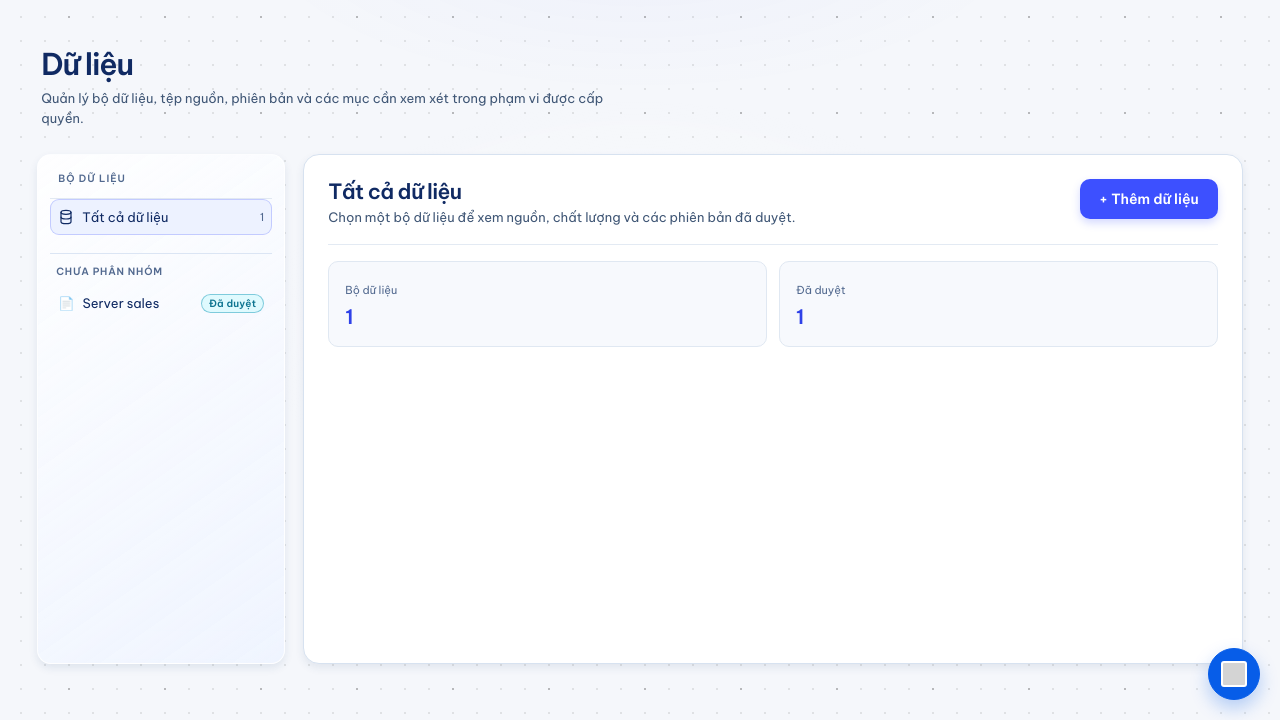
[WEB-020][WEB-021][WEB-024] data route loading states › does not expose a dead local cleaning-agent button for server datasets
Click the button "📄 Server sales Đã duyệt" at {"x": 161, "y": 303}, box [50,285,272,321]
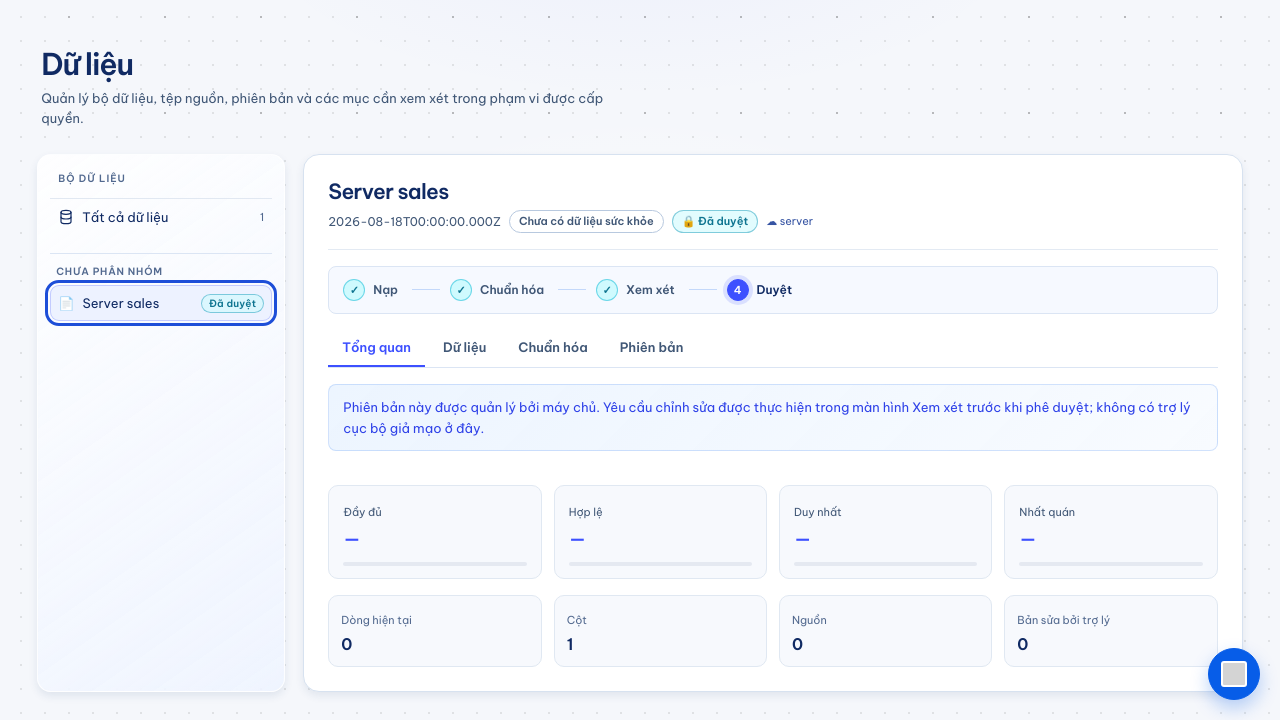
Expected: the message is shown, [328,384,1218,451]
Expected: the text "Phiên bản này được quản lý bởi máy chủ" is shown, [343,400,1191,436]
